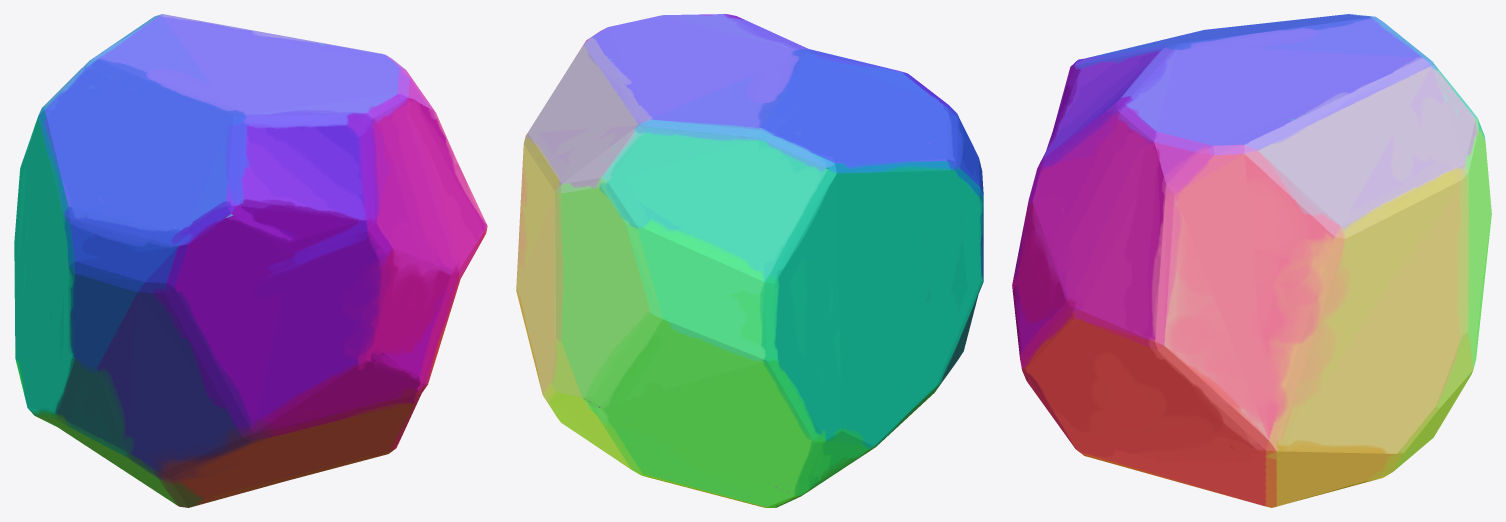
File: rock_round_2.glb
3 renders of one model, left to right at view 1: azimuth 30°, elevation 25°; view 2: azimuth 150°, elevation 25°; view 3: azimuth 270°, elevation 25°, orthographic. The views are drawn at different scales.
Parts seen in each view (by area): view 1: rock_round_2; view 2: rock_round_2; view 3: rock_round_2.
Part boxes in pixels (left/top/right/bottom): rock_round_2: left=14, top=14, right=487, bottom=507; rock_round_2: left=516, top=14, right=983, bottom=507; rock_round_2: left=1012, top=14, right=1491, bottom=507.
Bounding box in the file's own units: 2.02 × 1.77 × 1.89.
1 material, 1 textured.
